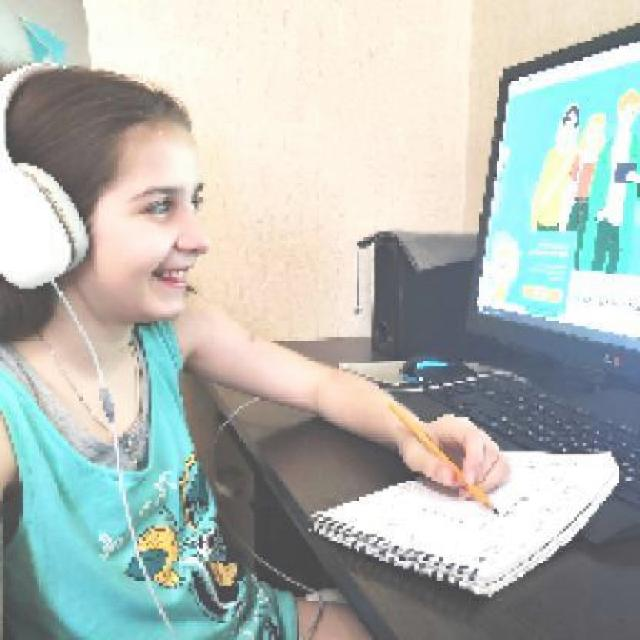child: (2, 60, 518, 637)
